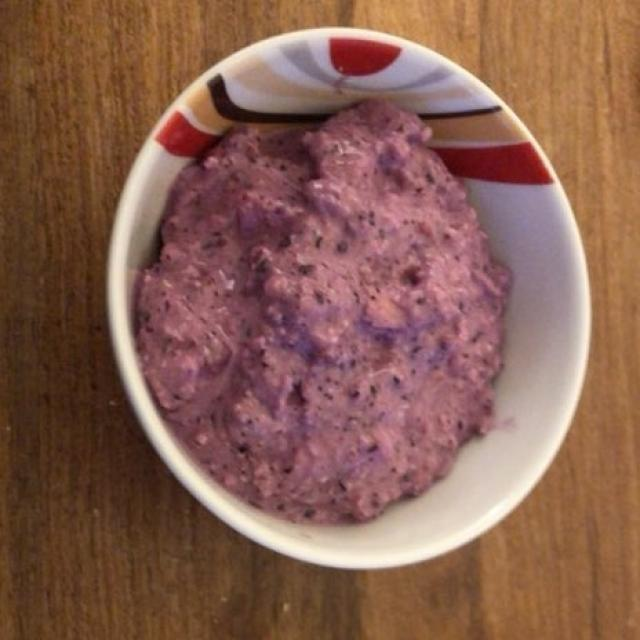birchermuesli: (137, 104, 504, 512)
